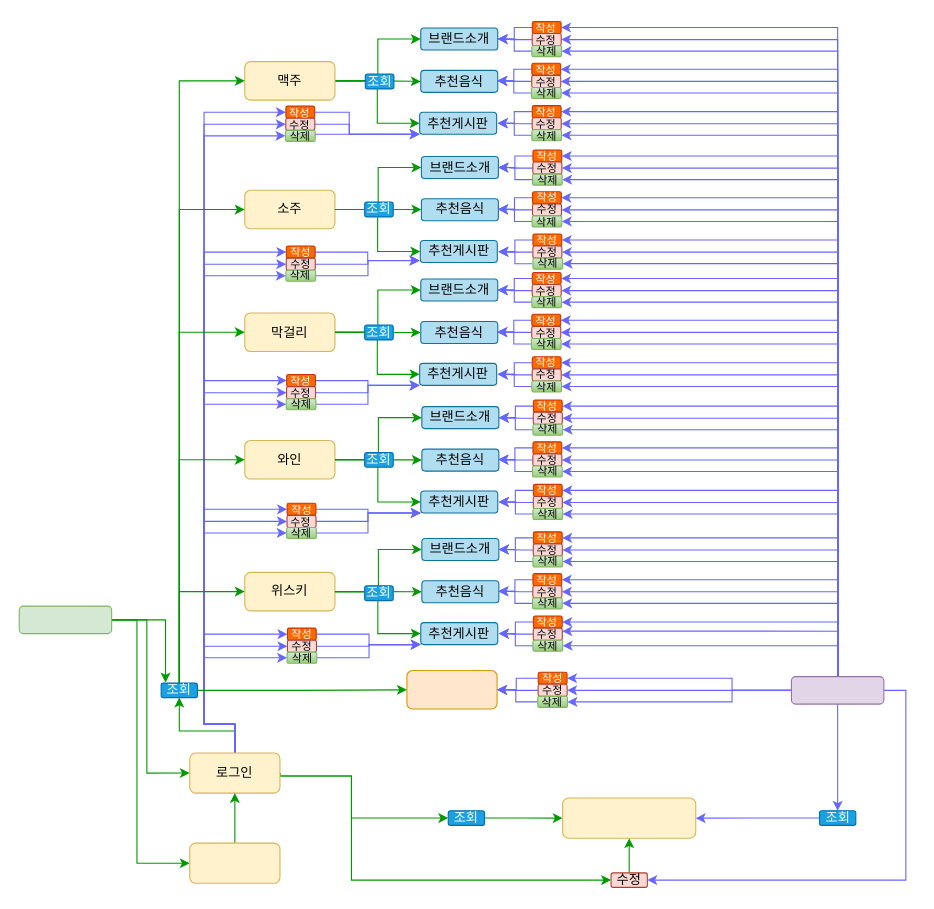
Some shapes in this 934 by 909 pixel diagram are drawn without their labels. The shapes that lost their labels are listed below. From the top down, each one's box as (x1, y1, x2, y2) in pixels, then its label:
(18, 605, 112, 634): 사용자
(406, 669, 497, 709): 공지사항
(790, 676, 884, 704): 관리자
(562, 797, 696, 838): 회원정보 조회 및 변경
(189, 842, 280, 883): 회원가입
